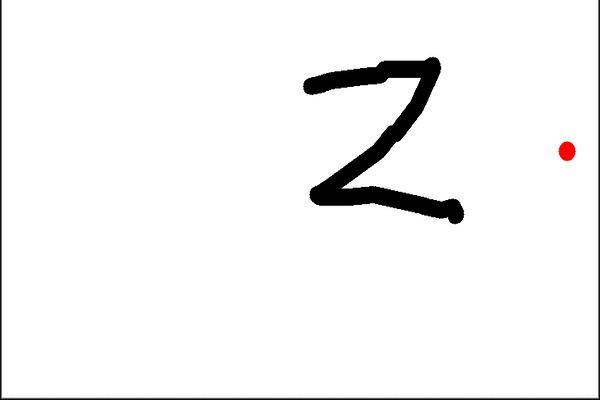Z: (297, 52, 468, 230)
